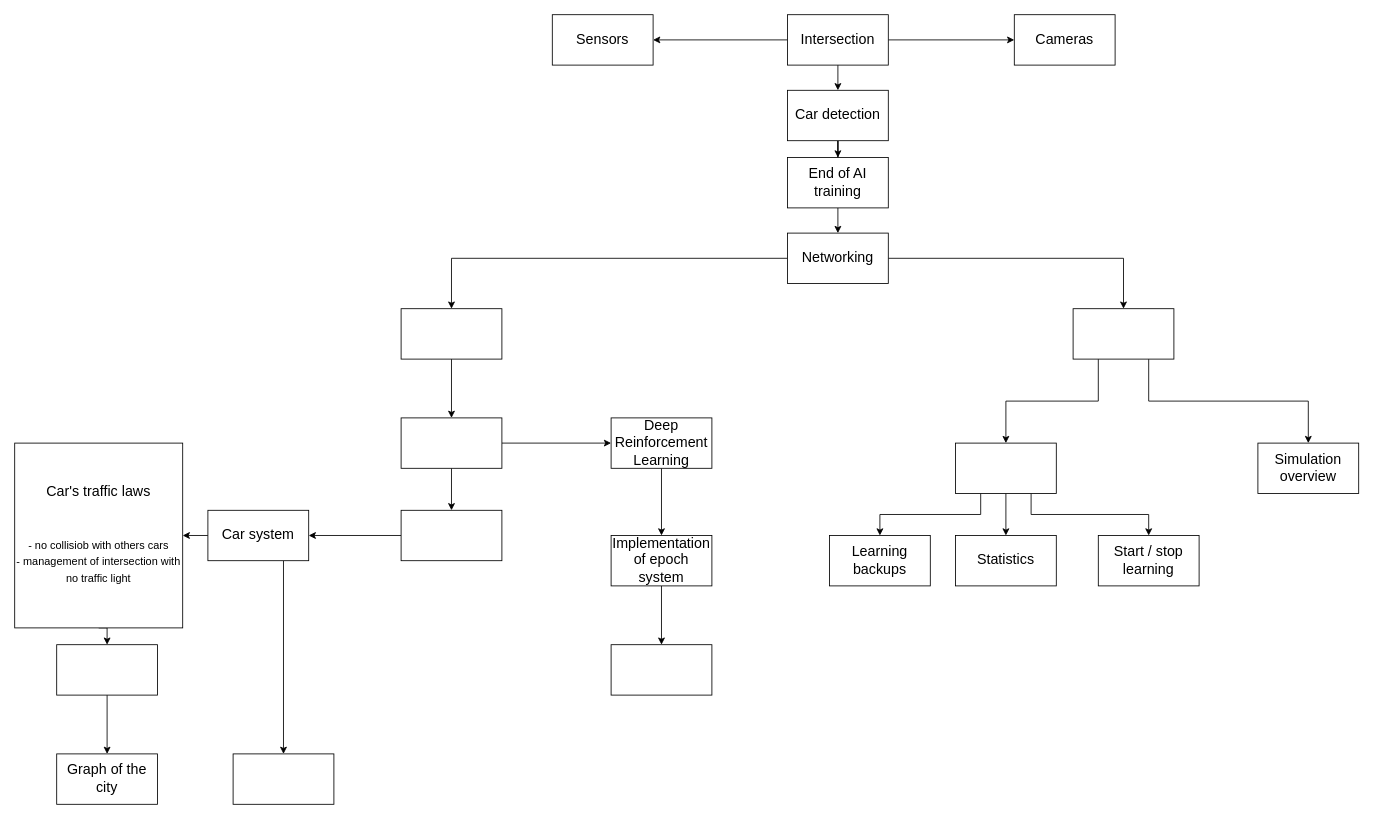
This 1373x819 diagram has some shape labels left out. Each missing label, with the box of its shape:
Car trajectory / speed: (56, 644, 158, 695)
Kinds of Car: (232, 753, 334, 804)
Learning Supervisor: (955, 442, 1056, 494)
Neural Network Implementation: (610, 644, 712, 695)
Server: (400, 308, 502, 359)
Simulation: (400, 417, 502, 468)
Traffic Light system: (400, 509, 502, 561)
Web interface: (1072, 308, 1174, 359)
